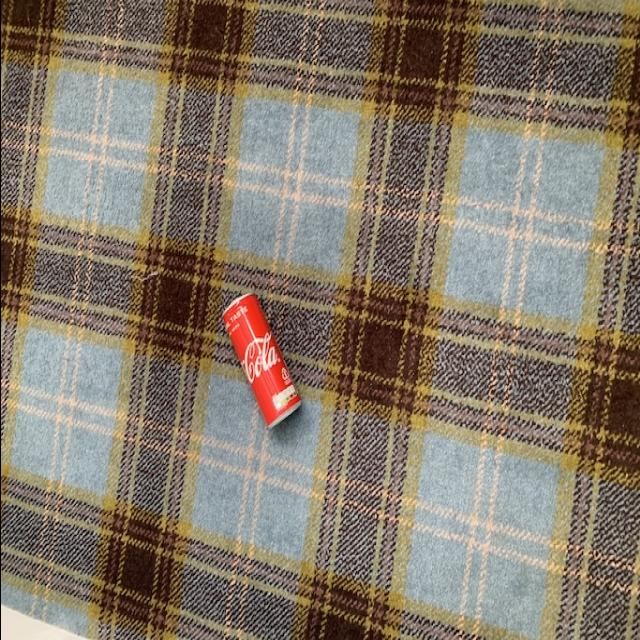Aluminum Can: (218, 287, 300, 435)
